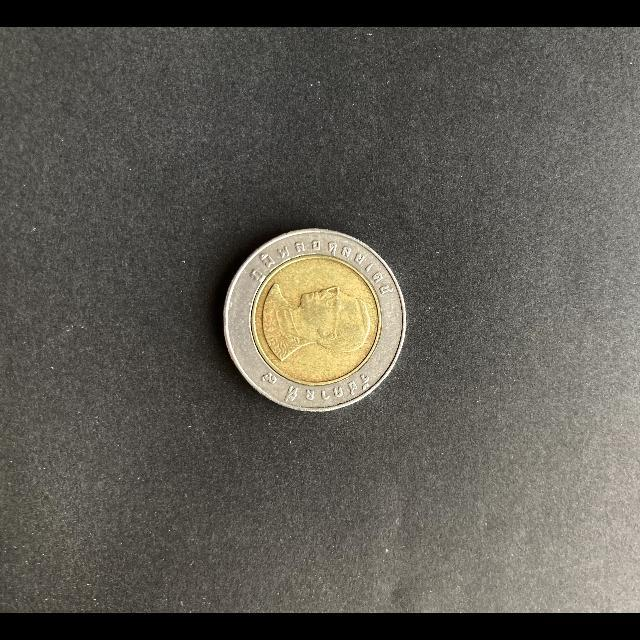10 Bath: (221, 225, 410, 416)
